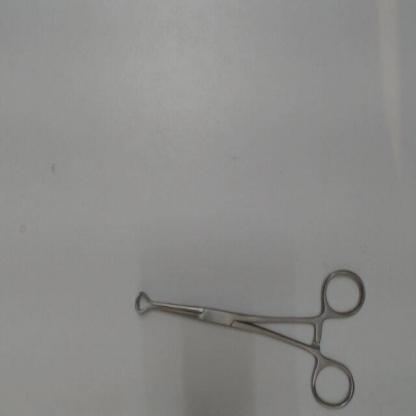Babcock Tissue Forceps: (130, 264, 369, 414)
